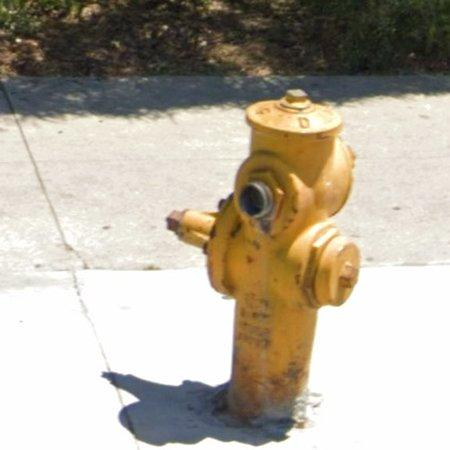a fire hydrant: (167, 90, 361, 420)
